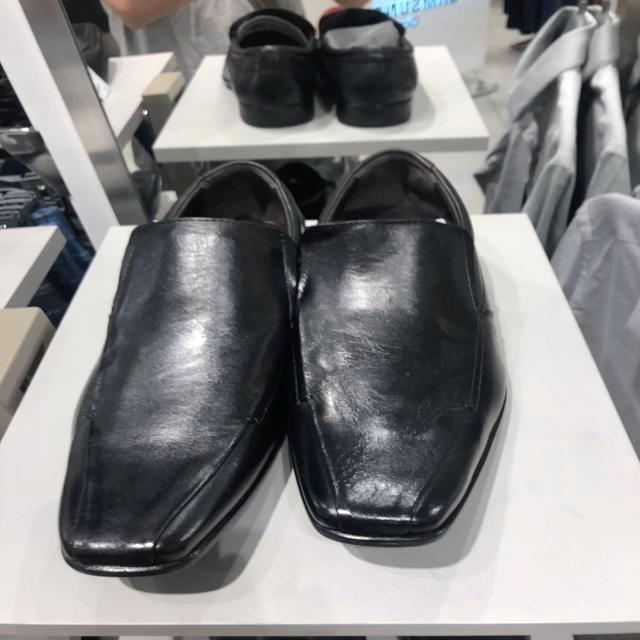shoe: (59, 163, 288, 579), (293, 153, 500, 546)
